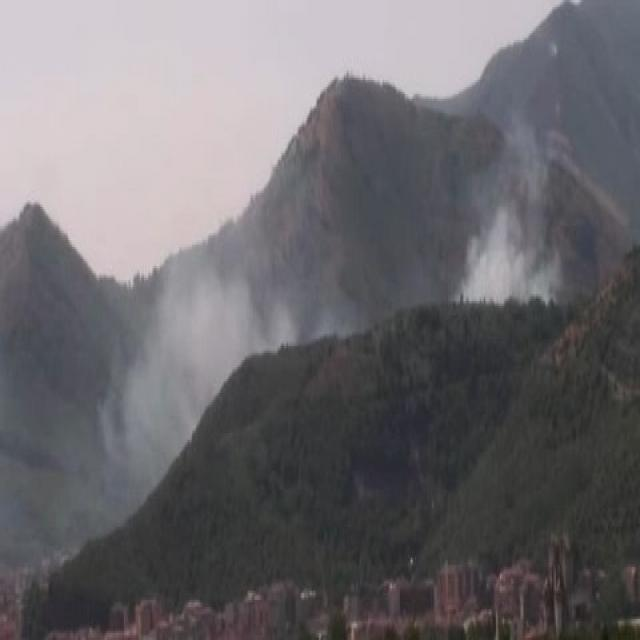smoke: (122, 255, 285, 438), (452, 146, 548, 302)
